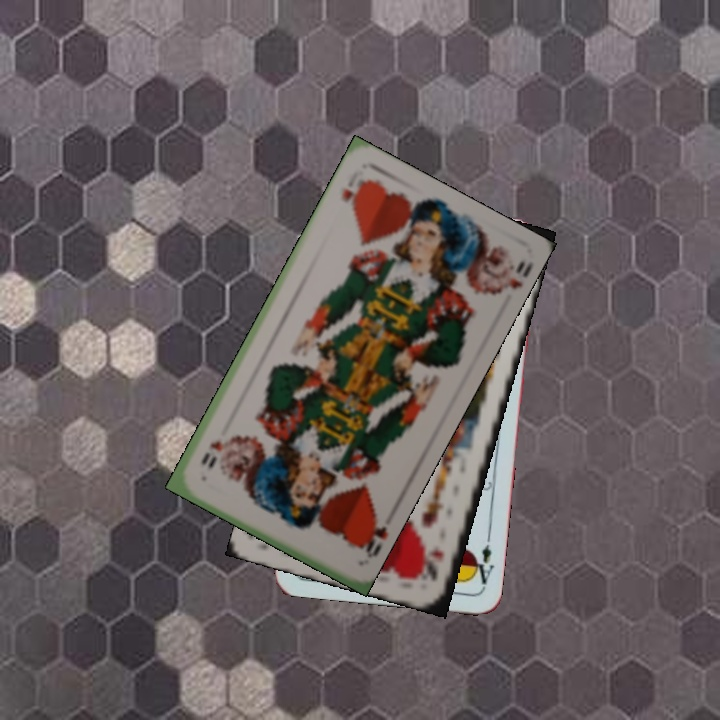EA: (468, 540, 497, 590)
HK: (422, 544, 447, 584)
HO: (354, 508, 390, 561), (337, 173, 370, 205)
